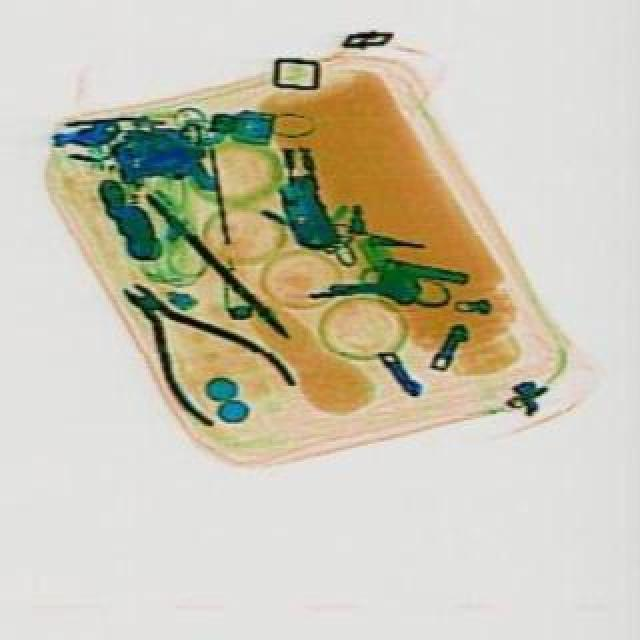wrench: (92, 250, 306, 446)
